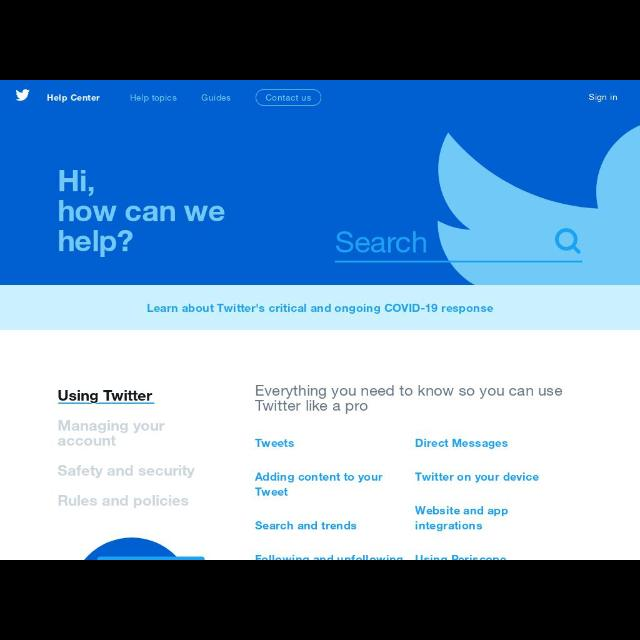backgroundimage: (1, 81, 640, 285)
icon: (554, 227, 582, 257)
image: (78, 536, 205, 558), (14, 88, 30, 102)
input: (333, 228, 585, 264)
multitab: (44, 92, 232, 104)
text: (57, 168, 229, 260), (254, 383, 564, 413), (146, 301, 497, 315), (254, 470, 384, 498), (58, 418, 168, 448), (414, 504, 508, 532), (57, 464, 195, 480), (336, 231, 426, 255), (56, 494, 190, 510), (57, 389, 155, 405), (256, 553, 512, 559), (414, 471, 540, 483), (414, 437, 508, 451), (255, 520, 358, 532), (45, 92, 101, 104), (130, 93, 178, 103), (255, 438, 295, 448), (266, 93, 312, 101), (588, 94, 618, 102), (201, 94, 231, 102)
textbutton: (254, 88, 322, 106)
toolbar: (1, 81, 640, 107)
